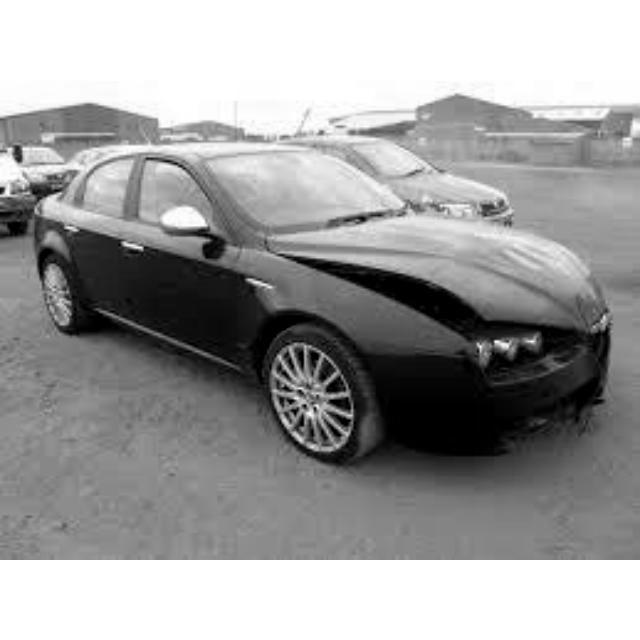Headlight-damage: (473, 326, 576, 387)
bonnet-dent: (332, 236, 593, 347)
